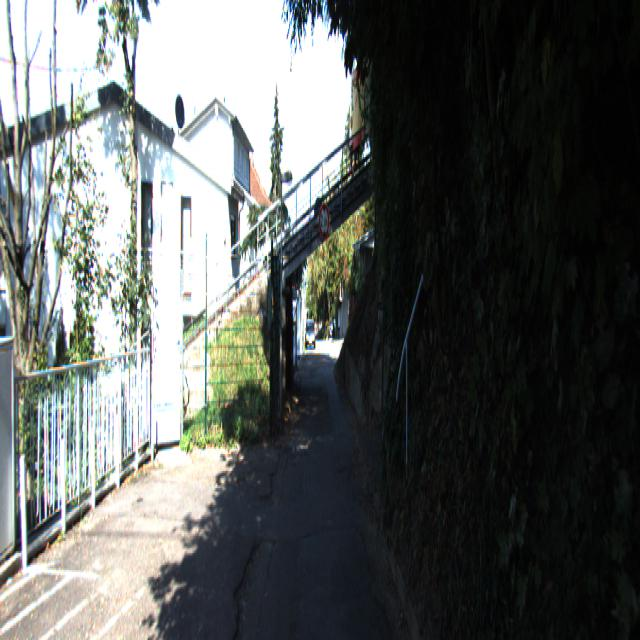Car: (305, 320, 316, 351)
